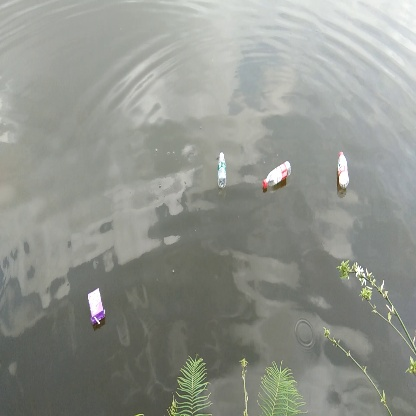bottle: (260, 160, 297, 192), (215, 152, 234, 190), (334, 150, 352, 189)
milk-box: (83, 286, 109, 326)
